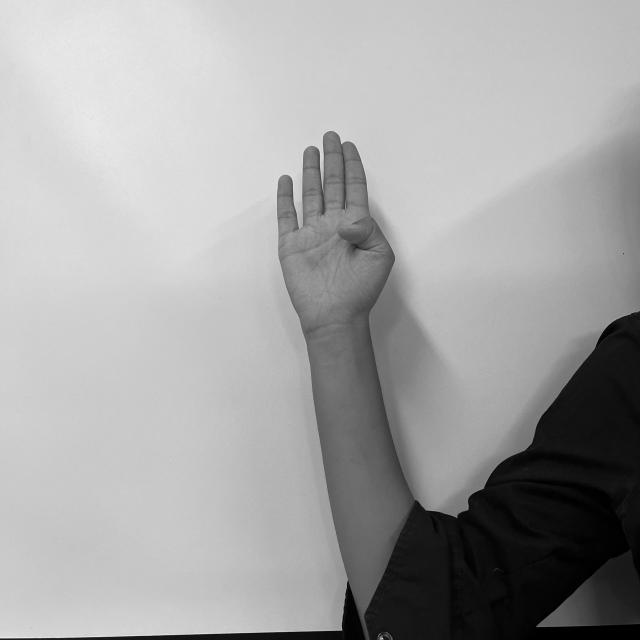Letra B: (272, 125, 400, 333)
